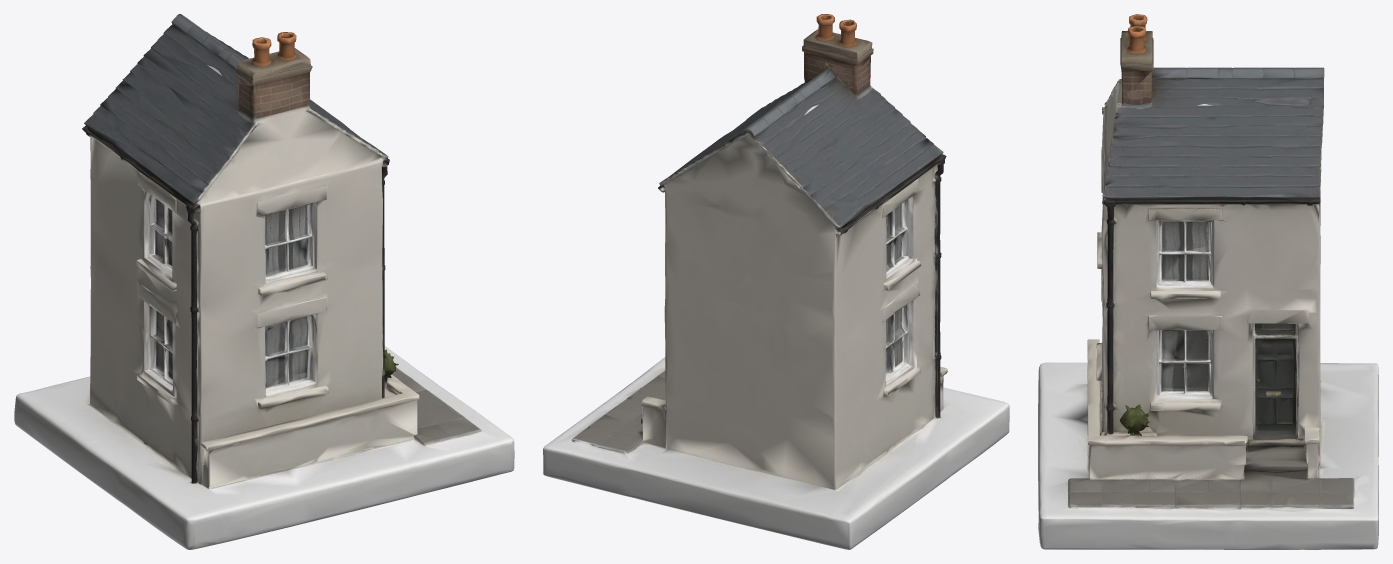
Rendered from home-flat1-hf.glb.
3 renders of one model, left to right at view 1: azimuth 30°, elevation 25°; view 2: azimuth 150°, elevation 25°; view 3: azimuth 270°, elevation 25°, orthographic. The views are drawn at different scales.
Visible parts, largest first — view 1: tripo_node_ef573d1c-5f3b-41bb-b277-f1cc622d0f4b; view 2: tripo_node_ef573d1c-5f3b-41bb-b277-f1cc622d0f4b; view 3: tripo_node_ef573d1c-5f3b-41bb-b277-f1cc622d0f4b.
Part boxes in pixels (left/top/right/bottom): tripo_node_ef573d1c-5f3b-41bb-b277-f1cc622d0f4b: left=14, top=14, right=514, bottom=549; tripo_node_ef573d1c-5f3b-41bb-b277-f1cc622d0f4b: left=543, top=14, right=1009, bottom=549; tripo_node_ef573d1c-5f3b-41bb-b277-f1cc622d0f4b: left=1038, top=14, right=1378, bottom=549.
Size of the model in its own units: 0.7768 by 1 by 0.7087.
1 material, 1 textured.
